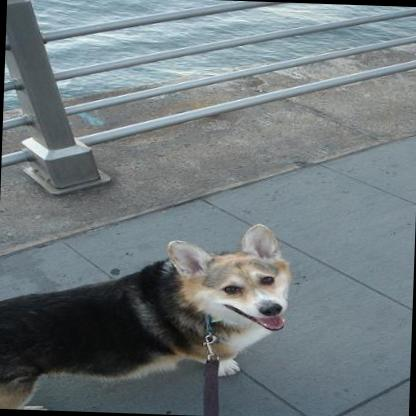Pembroke: (0, 215, 289, 416)
